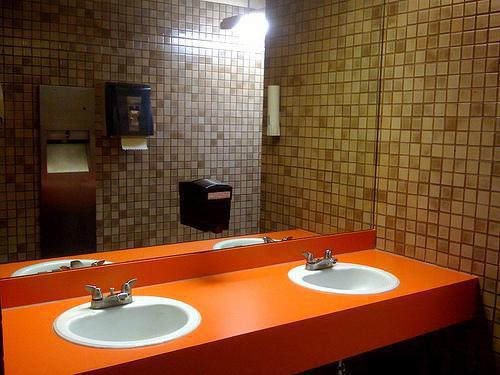Lavamanos: (55, 280, 206, 345), (290, 242, 399, 296)
